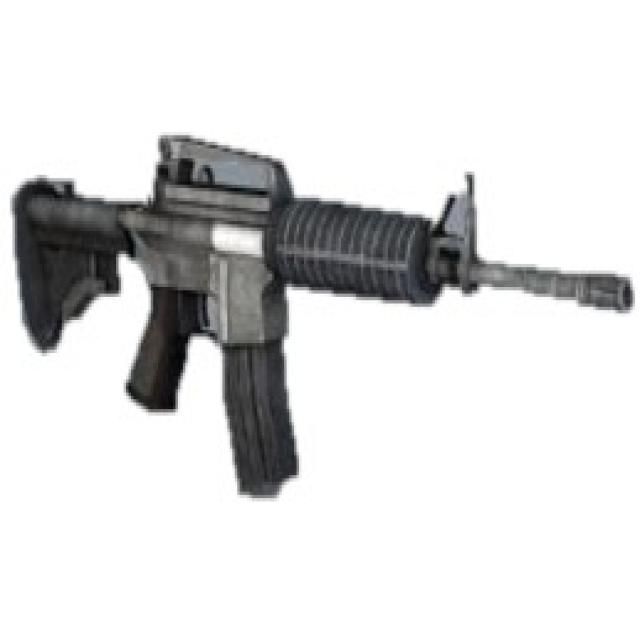rifle: (11, 125, 640, 517)
